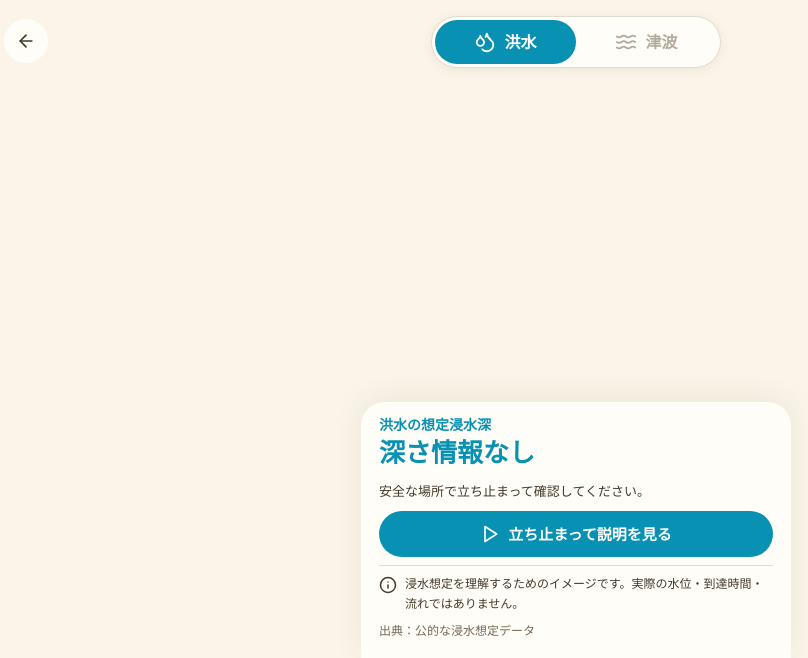
Test: inundation learning controls › does not draw a height for unknown depth
Click the button "立ち止まって説明を見る" at {"x": 576, "y": 534}, box [379, 511, 773, 557]
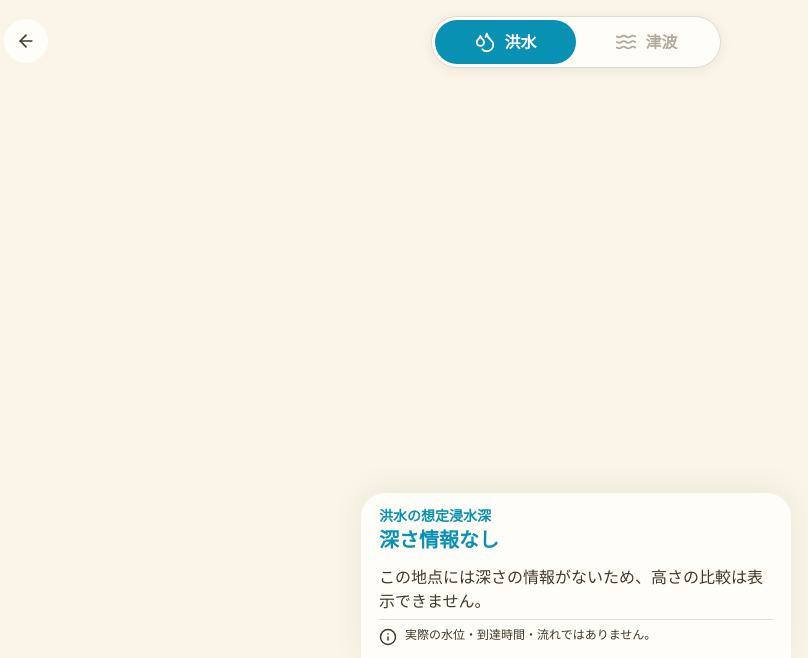
Expected: the text "この地点には深さの情報がないため、高さの比較は表示できません。" is shown, [379, 565, 773, 613]
